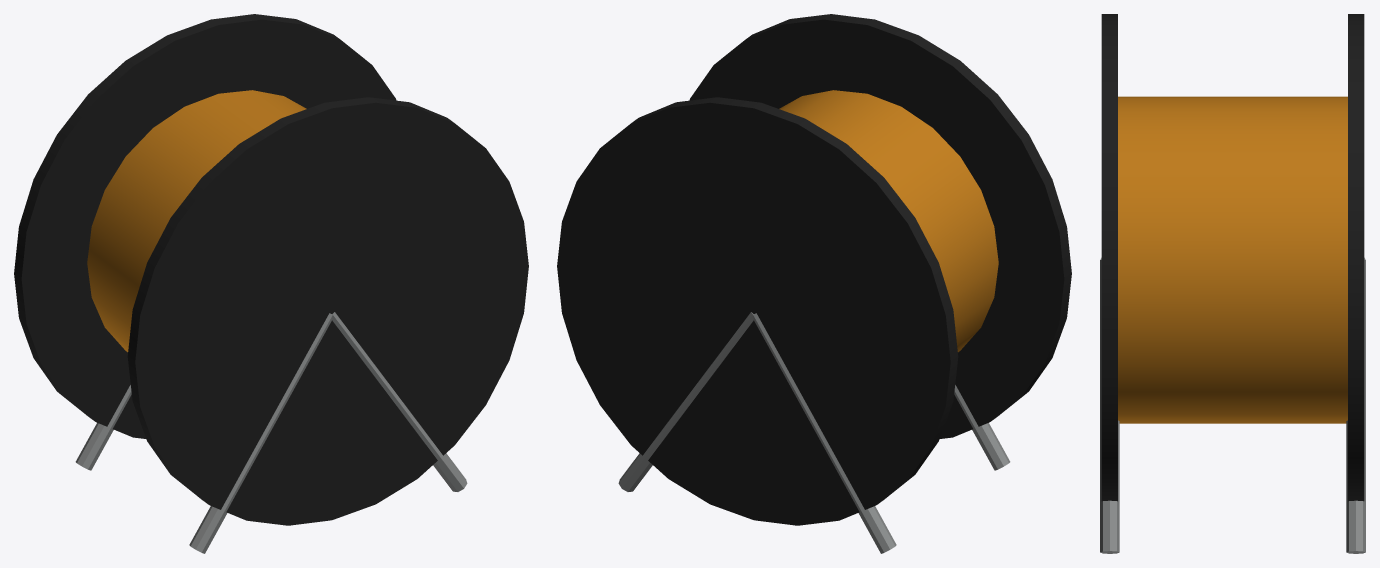
File: cable_reel.glb
3 renders of one model, left to right at view 1: azimuth 30°, elevation 25°; view 2: azimuth 150°, elevation 25°; view 3: azimuth 270°, elevation 25°, orthographic. The views are drawn at different scales.
Visible parts, largest first — view 1: scheibe-0.15, scheibe0.15, kern, fuss-0.15, fuss2-0.15, fuss0.15; view 2: scheibe0.15, scheibe-0.15, kern, fuss0.15, fuss20.15, fuss-0.15; view 3: kern, scheibe-0.15, scheibe0.15, fuss2-0.15, fuss20.15.
Boxes of the visible parts, x1,y1,x2,y2 form: scheibe-0.15: [127, 97, 528, 525]; scheibe0.15: [14, 14, 396, 438]; kern: [87, 90, 306, 352]; fuss-0.15: [189, 313, 332, 553]; fuss2-0.15: [332, 312, 467, 491]; fuss0.15: [75, 385, 131, 470]; scheibe0.15: [557, 97, 958, 525]; scheibe-0.15: [689, 14, 1071, 438]; kern: [779, 90, 998, 352]; fuss0.15: [753, 313, 896, 553]; fuss20.15: [618, 312, 753, 491]; fuss-0.15: [954, 385, 1010, 470]; kern: [1118, 96, 1347, 423]; scheibe-0.15: [1101, 14, 1117, 501]; scheibe0.15: [1348, 14, 1364, 501]; fuss2-0.15: [1100, 259, 1119, 553]; fuss20.15: [1346, 259, 1365, 553].
Size of the model in its own units: 0.6 by 0.6067 by 0.324.
